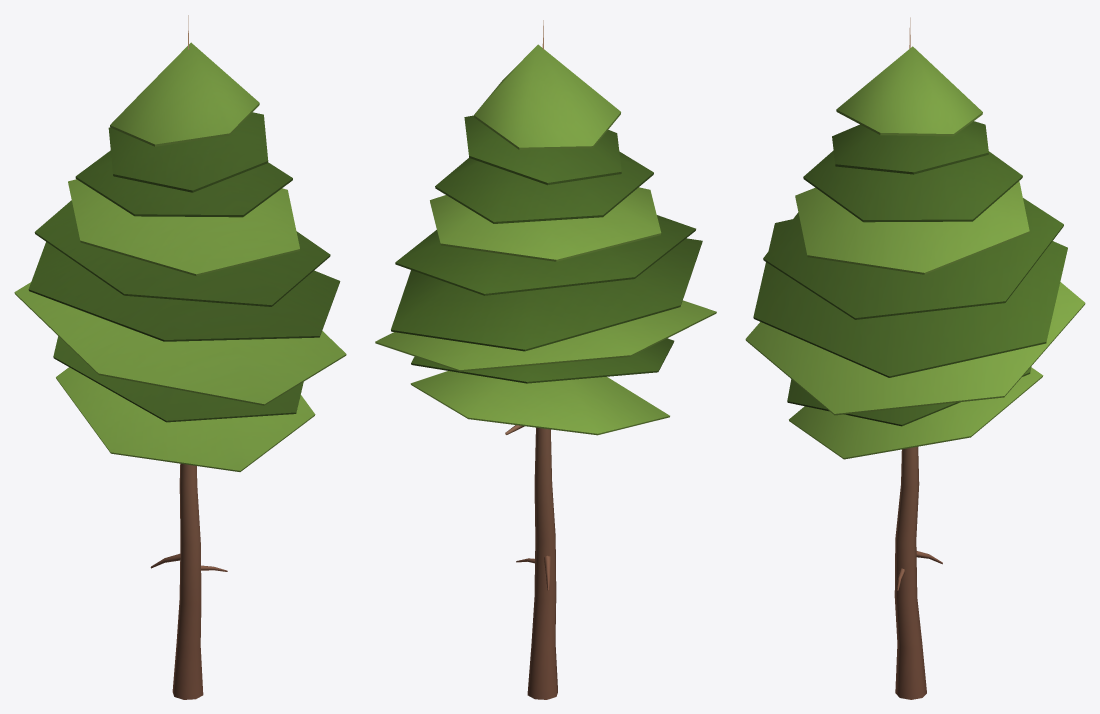
Rendered from TreePineLP_001.fbx.
The picture shows the model from 3 angles, left to right: view 1: azimuth 30°, elevation 25°; view 2: azimuth 150°, elevation 25°; view 3: azimuth 270°, elevation 25°; orthographic projection.
Parts seen in each view (by area): view 1: TreePineLP_001; view 2: TreePineLP_001; view 3: TreePineLP_001.
Boxes of the visible parts, box(x1,y1,x2,y2) form: TreePineLP_001: box(14, 15, 346, 699); TreePineLP_001: box(375, 20, 716, 699); TreePineLP_001: box(745, 17, 1085, 699).
Bounding box in the file's own units: 12.28 × 27.49 × 12.47.
